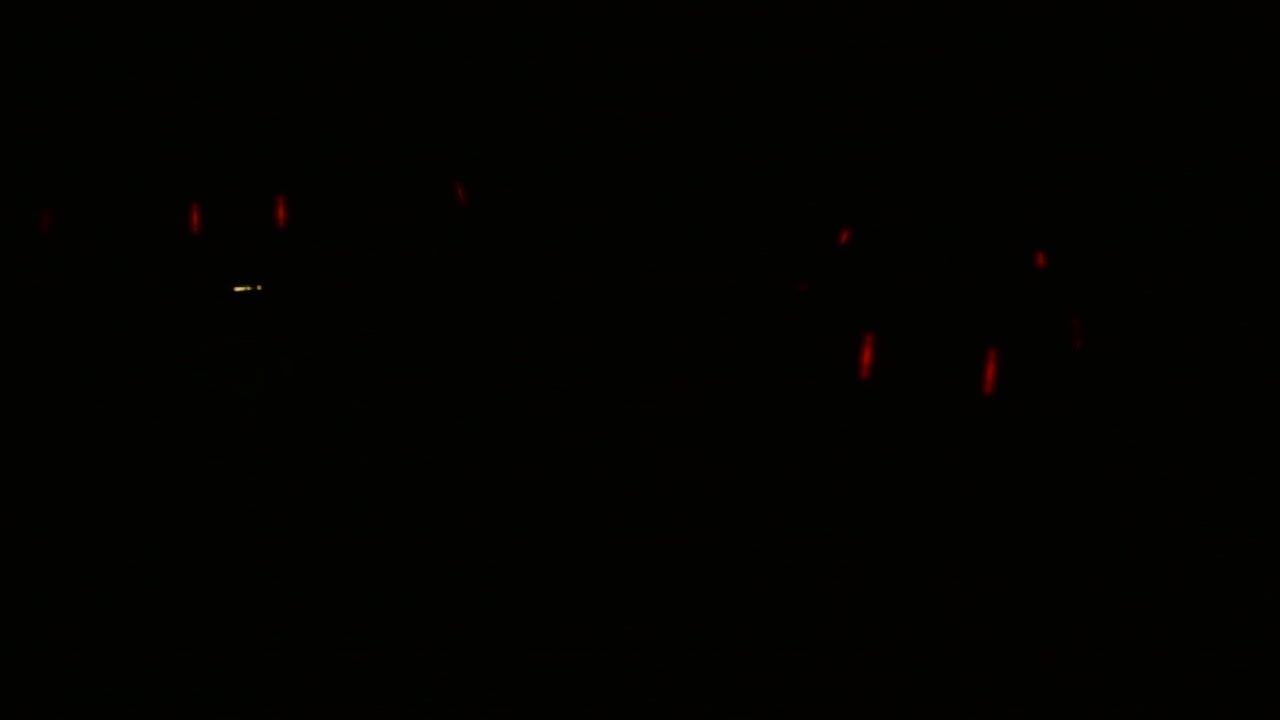pair1: (180, 184, 301, 255)
pair2: (850, 326, 1007, 408)
